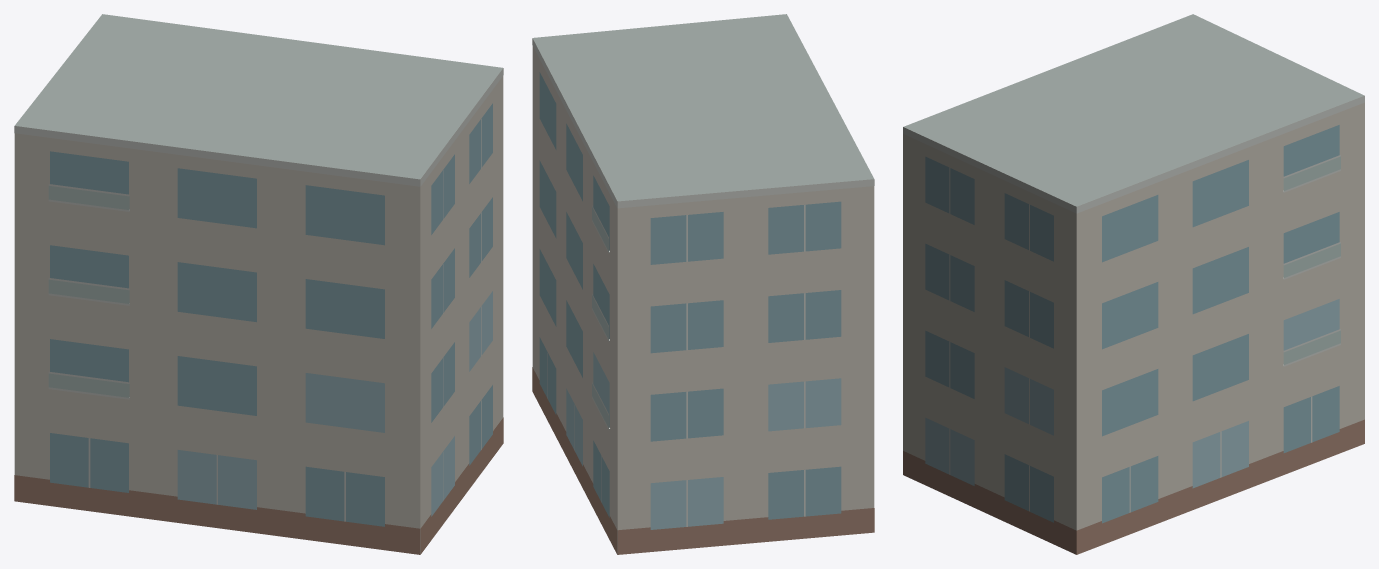
The model's file is survey-upis-32990710.glb.
3 renders of one model, left to right at view 1: azimuth 30°, elevation 25°; view 2: azimuth 150°, elevation 25°; view 3: azimuth 270°, elevation 25°, orthographic. The views are drawn at different scales.
Parts seen in each view (by area): view 1: survey-upis-32990710.tmp; view 2: survey-upis-32990710.tmp; view 3: survey-upis-32990710.tmp.
Boxes of the visible parts, x1,y1,x2,y2 form: survey-upis-32990710.tmp: (14, 14, 503, 554); survey-upis-32990710.tmp: (532, 14, 874, 554); survey-upis-32990710.tmp: (903, 14, 1364, 554).
Bounding box in the file's own units: 14.74 × 12.4 × 14.91.
